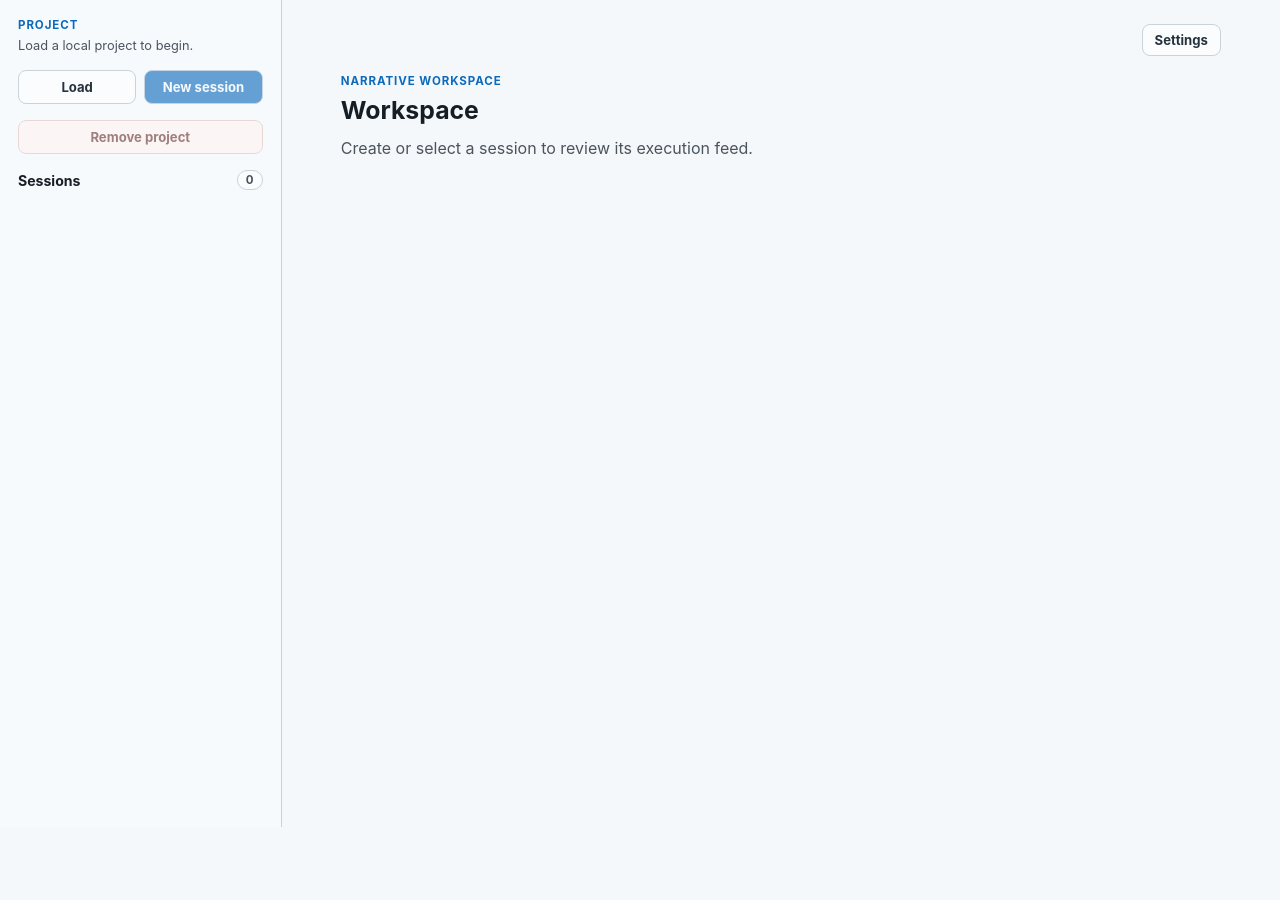
SettingsBoundary › keeps platform runtime and prompt asset fields out of settings surfaces
Click the button with aria-label "Open settings": coordinates (1181, 40) [1142,24,1221,56]
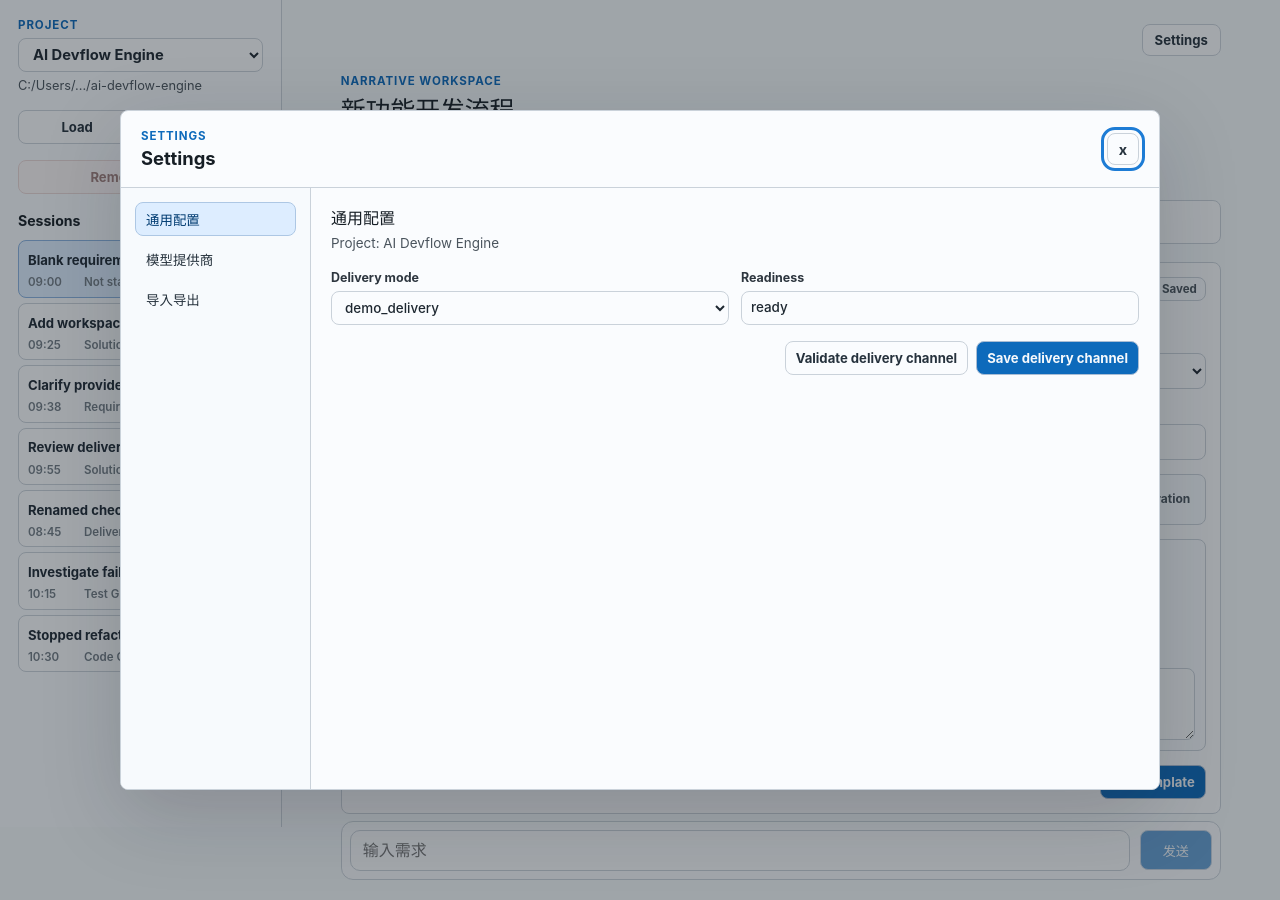
Check: the dropdown showing "demo_delivery" is shown, box [331,291,729,325]
Click the tab "模型提供商": coordinates (216, 259) [135,242,296,276]
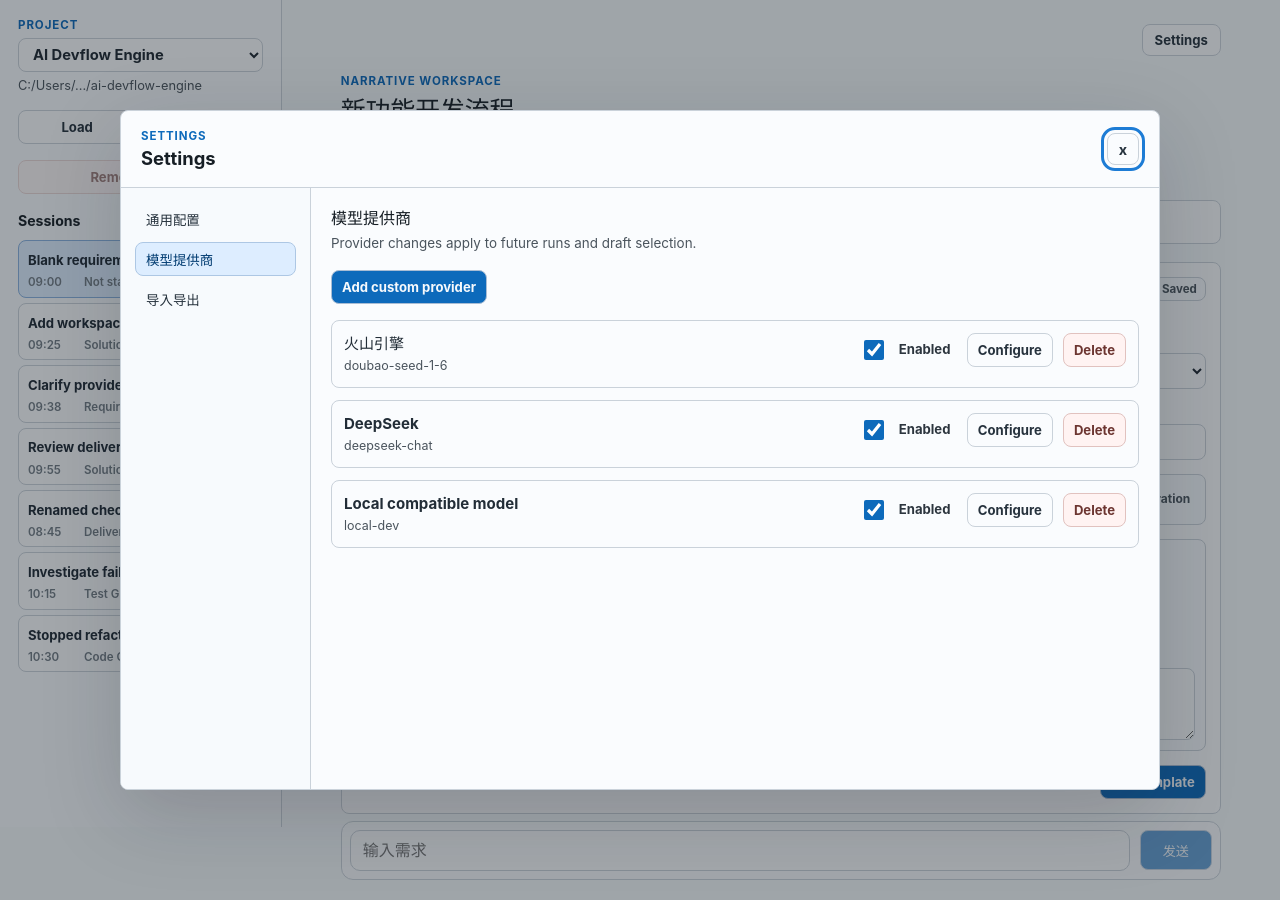
Check: the button "火山引擎" is shown, box [344,334,404,353]
Click the tab "导入导出": coordinates (216, 299) [135,282,296,316]
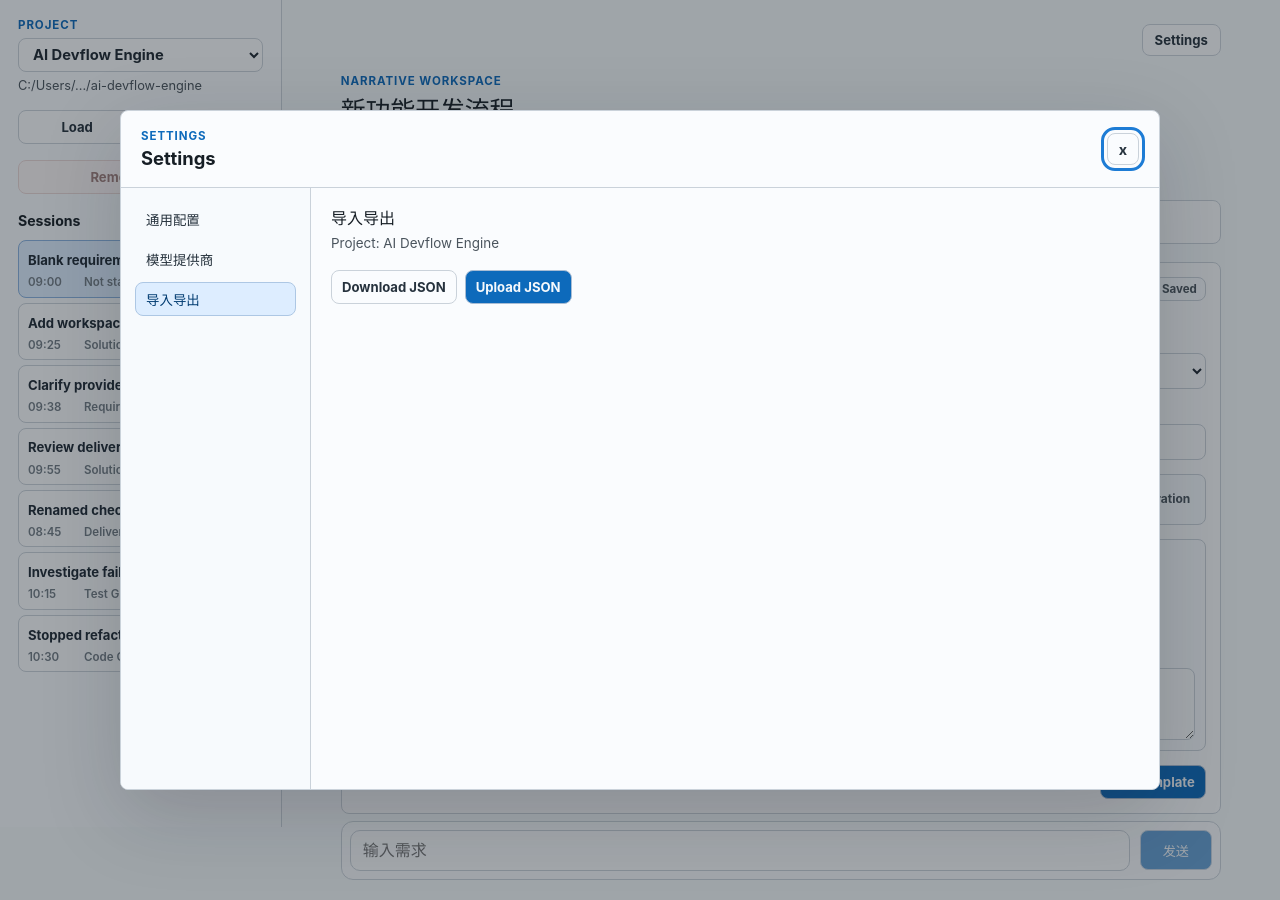
Check: the text "Project: AI Devflow Engine" is shown, box [331,235,499,251]
